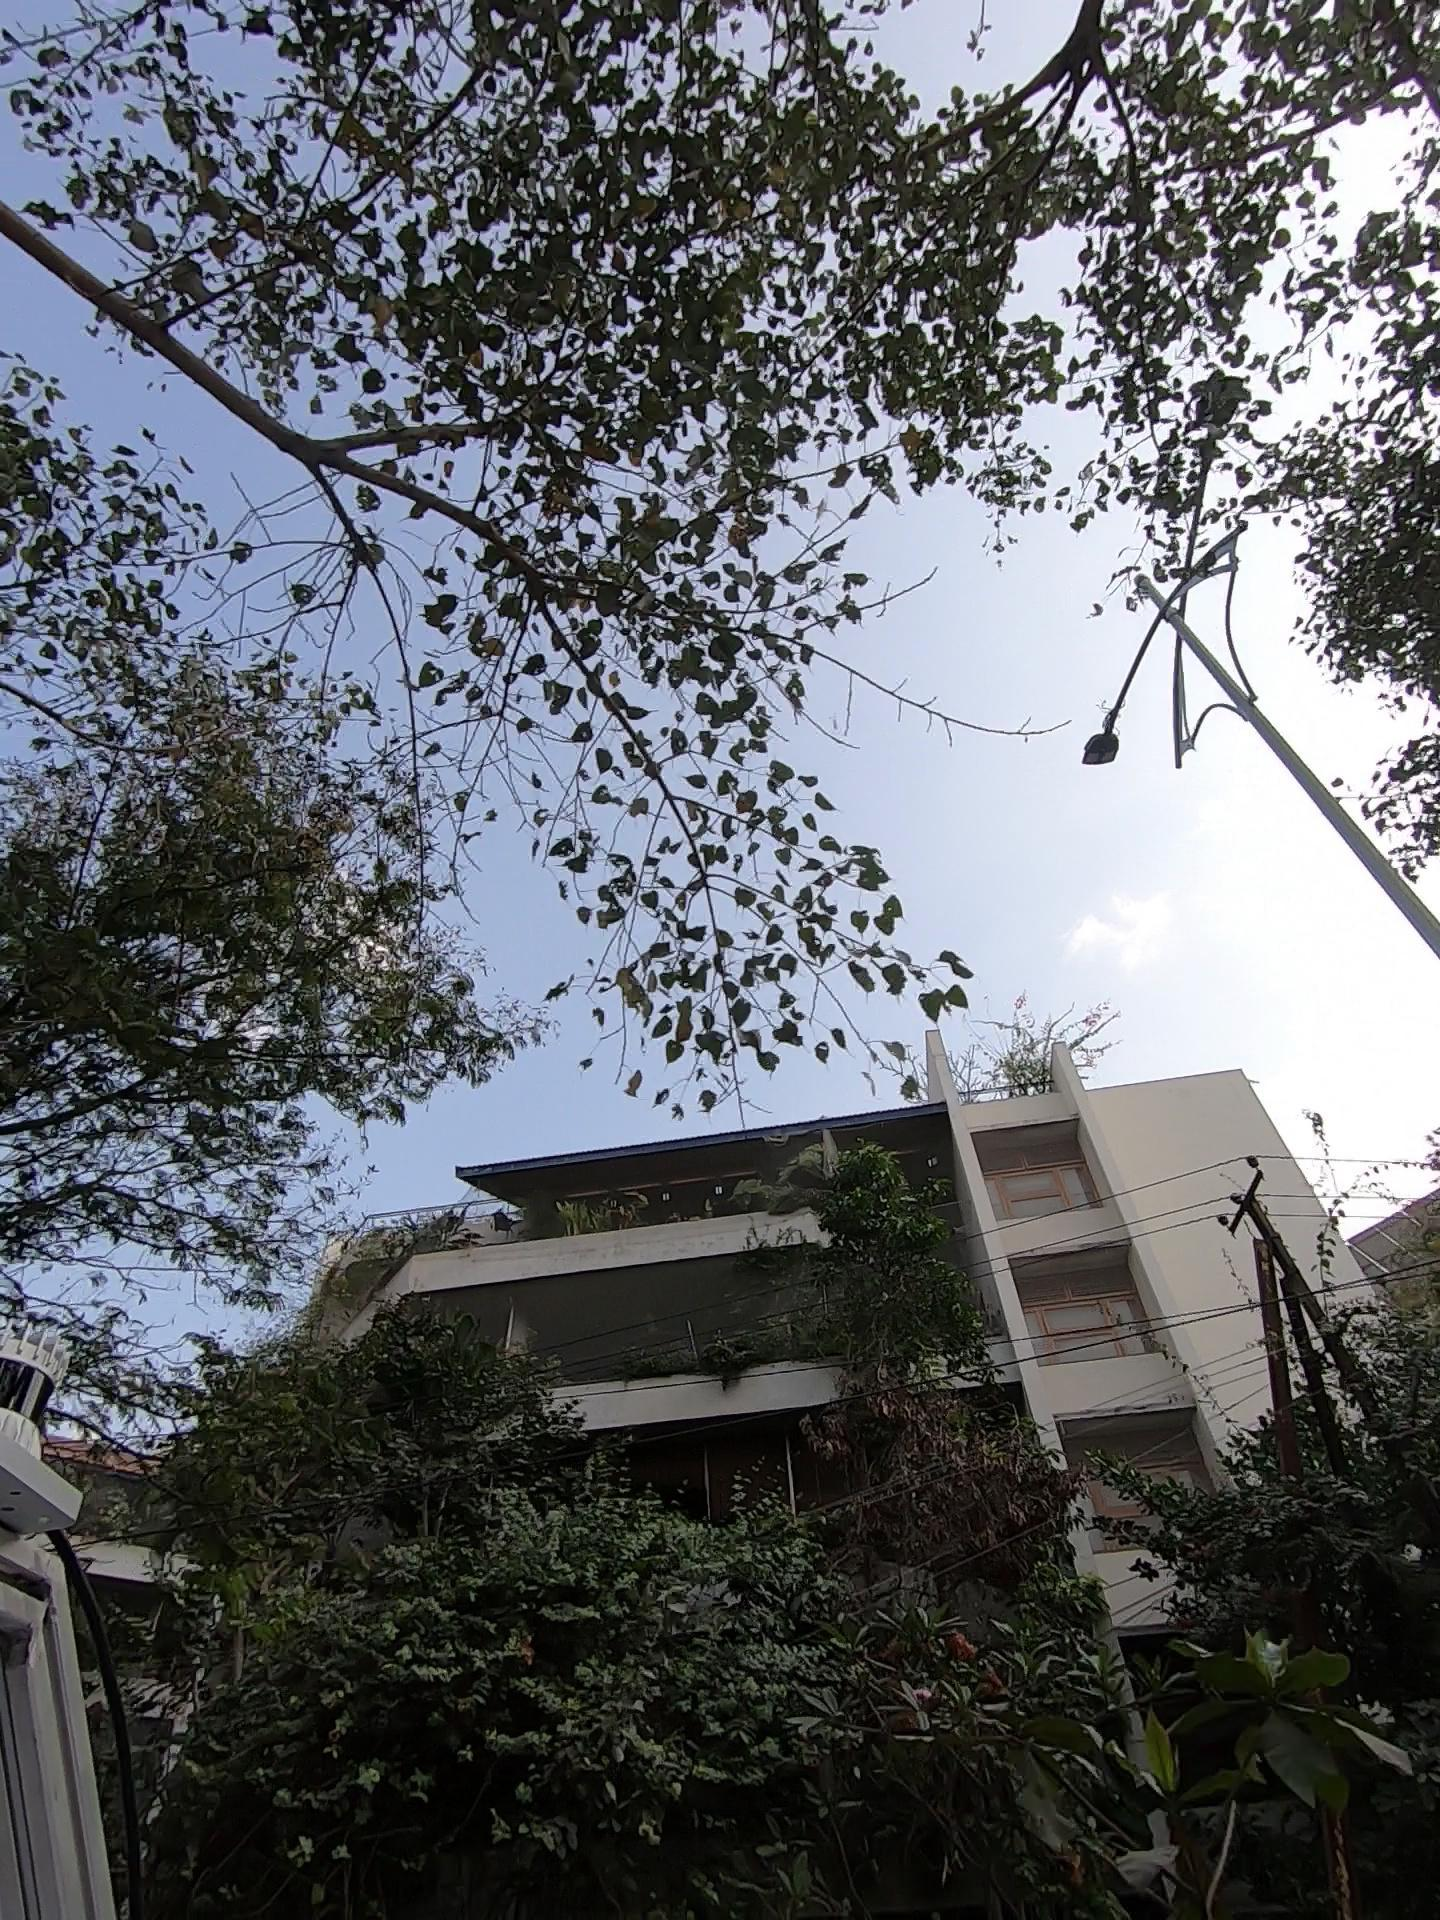off: (985, 392, 1319, 788)
